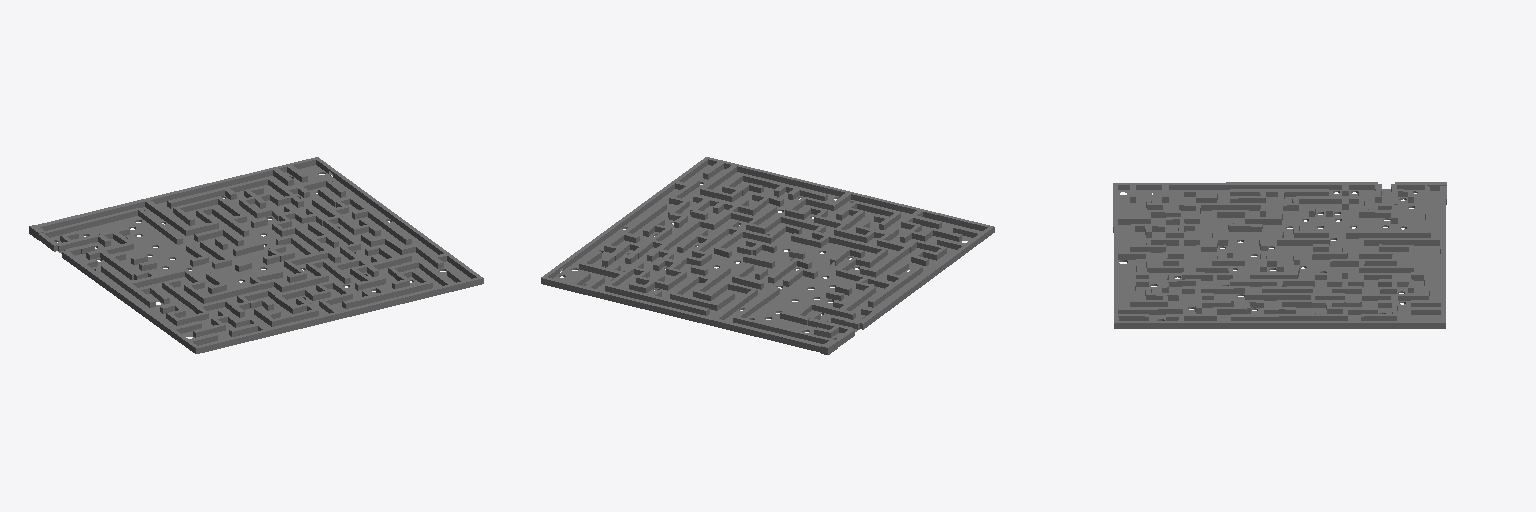
Rendered from board.obj.
3 renders of one model, left to right at view 1: azimuth 30°, elevation 25°; view 2: azimuth 150°, elevation 25°; view 3: azimuth 270°, elevation 25°, orthographic.
Parts seen in each view (by area): view 1: Sweep.1; view 2: Sweep.1; view 3: Sweep.1.
Part boxes in pixels (x1,y1,x2,y2): Sweep.1: (29, 157, 483, 353); Sweep.1: (541, 157, 994, 354); Sweep.1: (1113, 182, 1446, 328).
Bounding box in the file's own units: 20.37 × 0.5295 × 20.34.